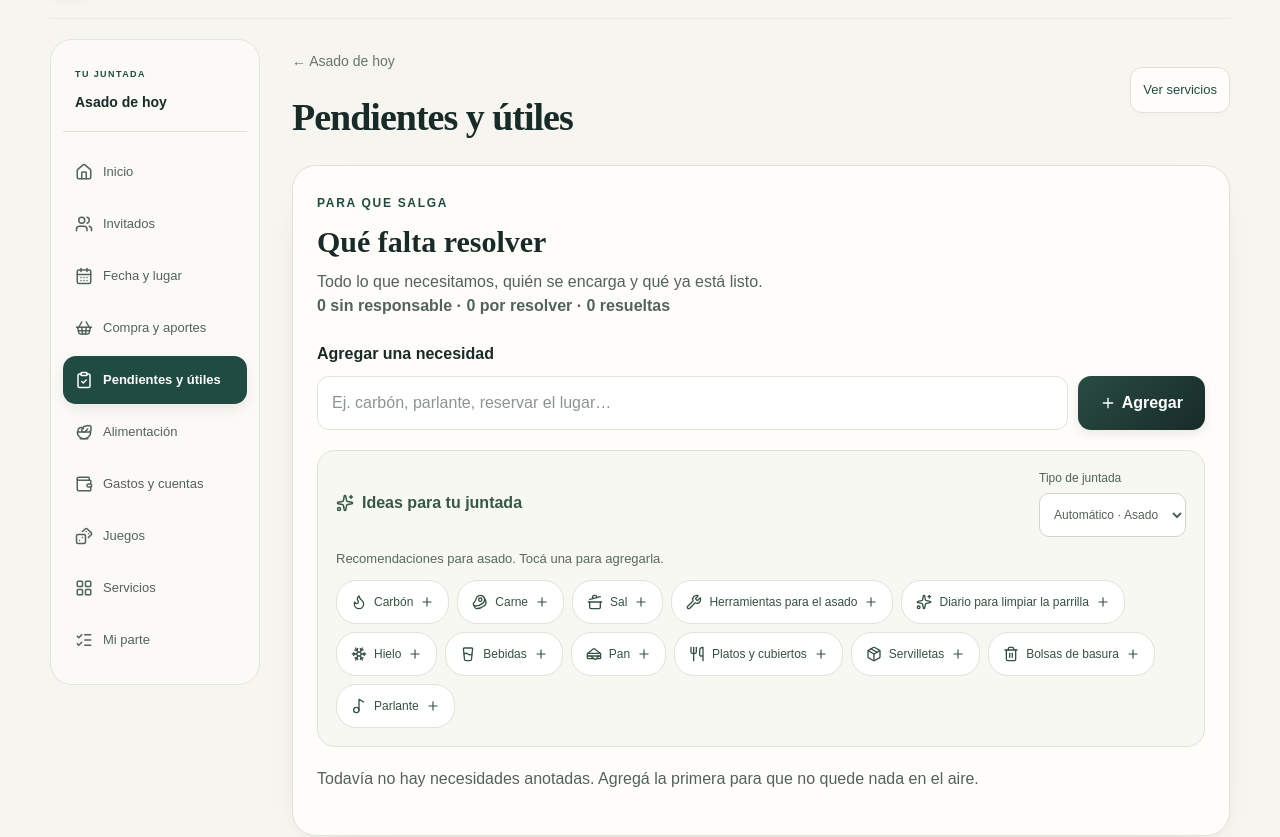
Test: servicios con pantallas propias › refleja en Inicio cambios recibidos mientras se usa otro módulo
Expected: the field labelled "Agregar una necesidad" is shown, top-left (317, 376), bottom-right (1068, 430)
Step 1. Click the link "← Asado de hoy" → click(343, 60), box top-left (292, 52), bottom-right (395, 68)
(page scrolled)
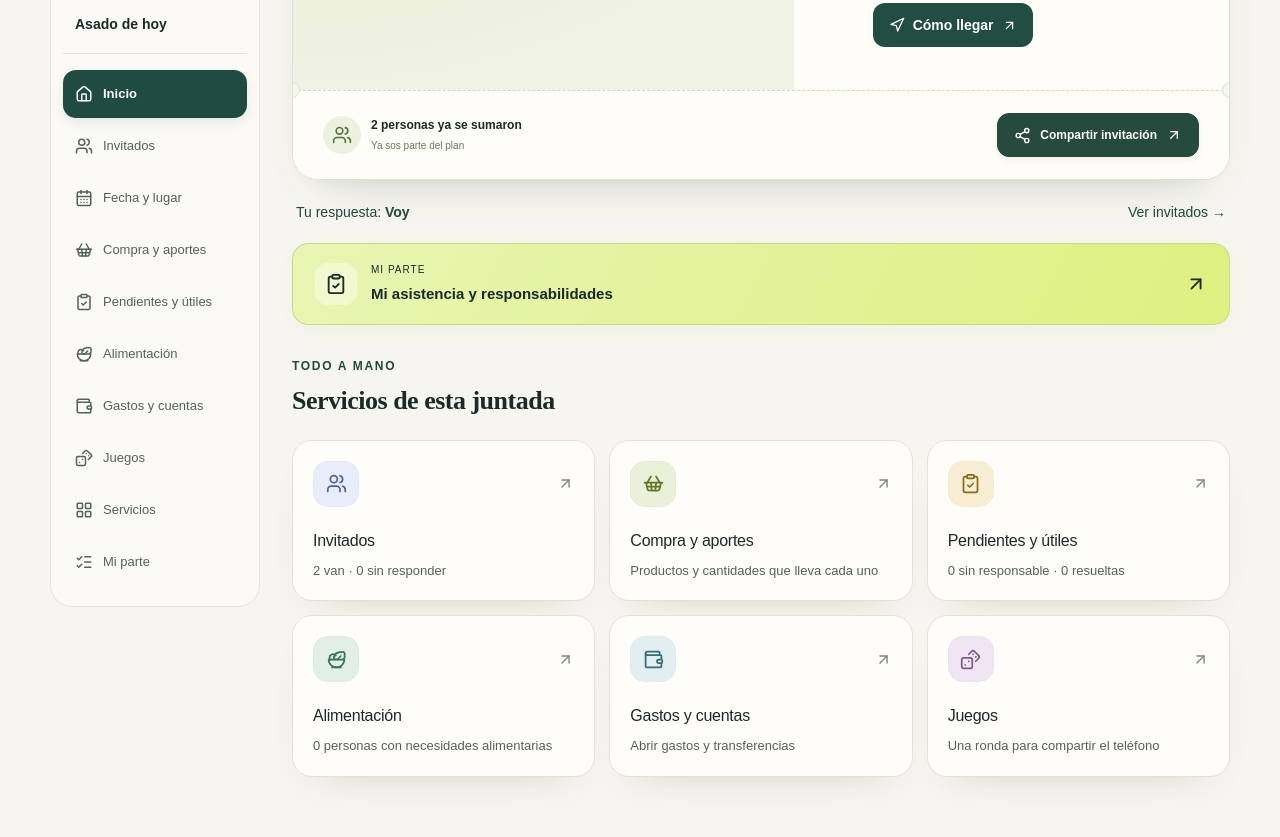
Result: the link "Invitados 2 van · 0 sin responder" is shown at top-left (292, 440), bottom-right (595, 601)
